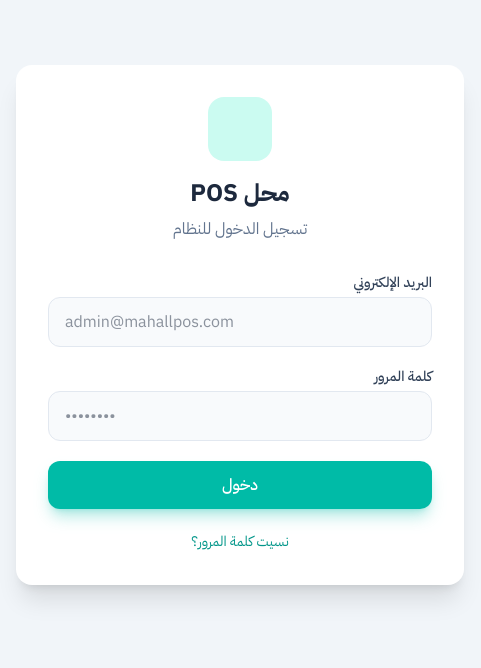
Test: LoginView - local-only deployment › explains that there is nothing to sign in to
The width and height of the screenshot is (481, 668).
Step 1. Type "owner@shop.test" into the field labelled "البريد الإلكتروني" → (240, 322), box [48,297,432,347]
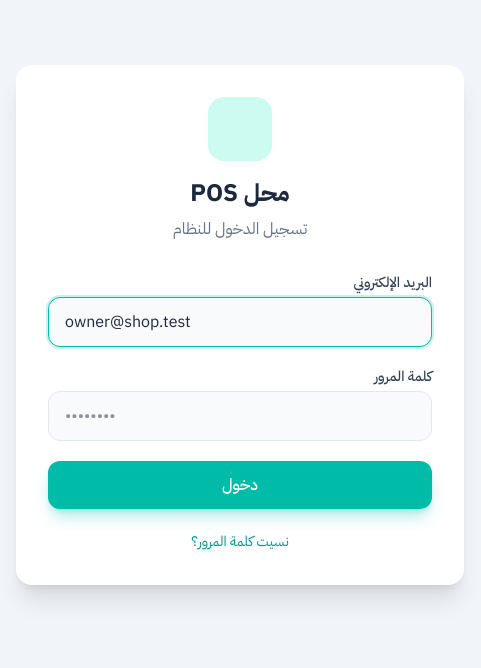
Step 2. Type "secret123" into the password field labelled "كلمة المرور" → (240, 416), box [48,391,432,441]
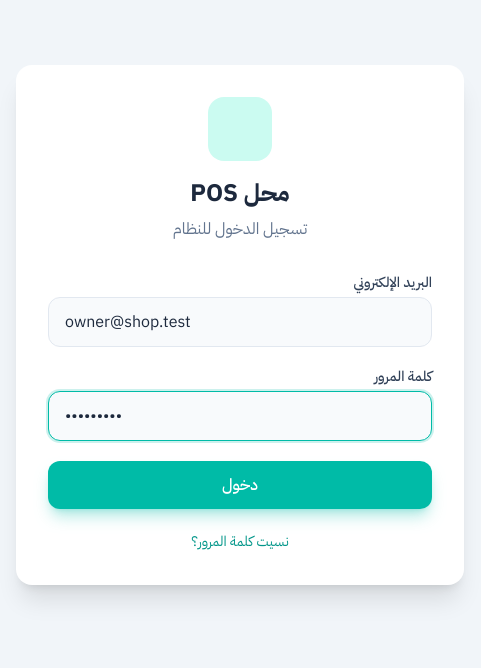
Step 3. Click the button "دخول" → (240, 485), box [48,461,432,509]
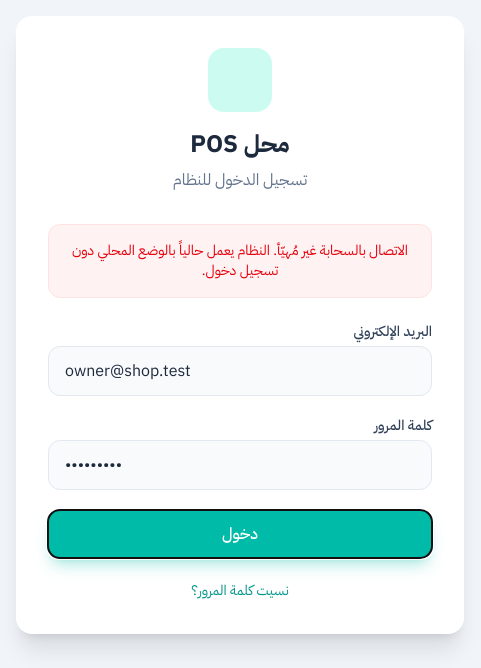
Expected: the message shows "الوضع المحلي", [72,240,408,281]
